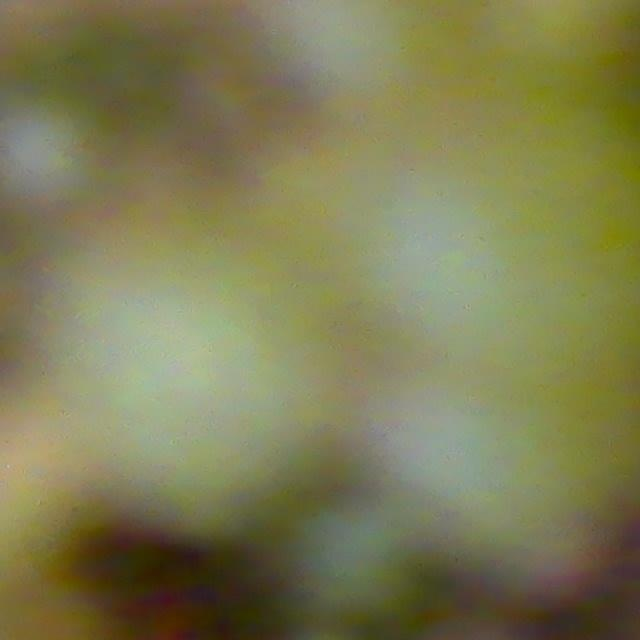SeaGrape: (287, 494, 411, 621)
